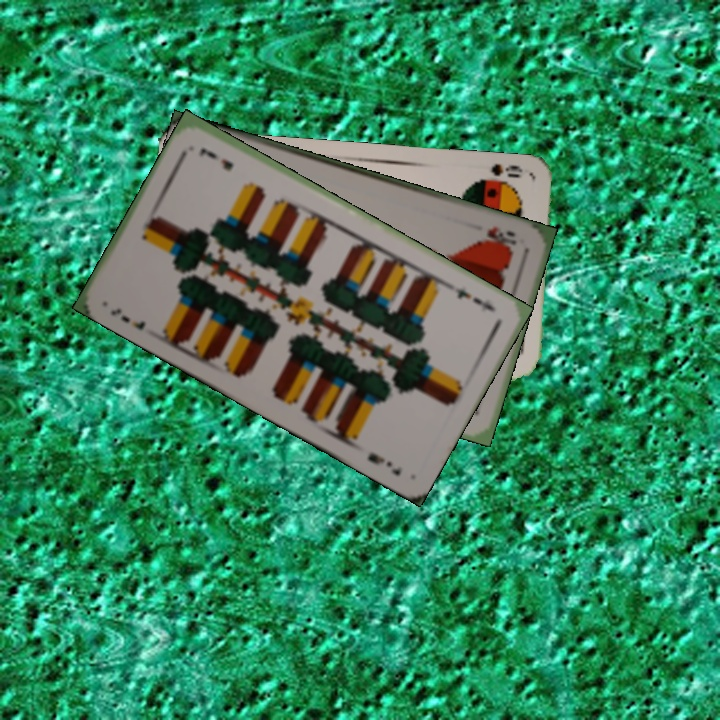E7: (448, 281, 499, 314), (106, 303, 148, 332)
HO: (482, 222, 519, 250)
SO: (487, 160, 525, 181)
